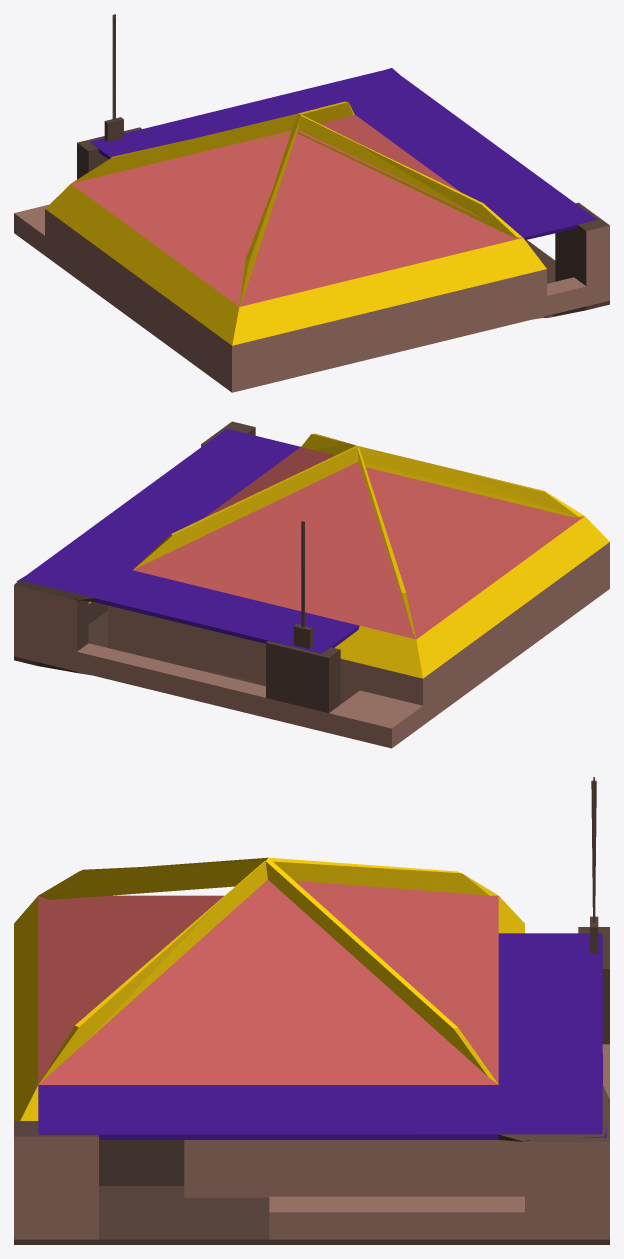
The model's file is infantry factory.fbx.
The picture shows the model from 3 angles, top to bottom: view 1: azimuth 30°, elevation 25°; view 2: azimuth 150°, elevation 25°; view 3: azimuth 270°, elevation 25°; orthographic projection. The views are drawn at different scales.
Visible parts, largest first — view 1: Infantry factory; view 2: Infantry factory; view 3: Infantry factory.
Part boxes in pixels (<box>): Infantry factory: <box>14,14,609,392</box>; Infantry factory: <box>14,421,609,748</box>; Infantry factory: <box>14,777,609,1244</box>.
Size of the model in its own units: 373 by 192 by 373.
